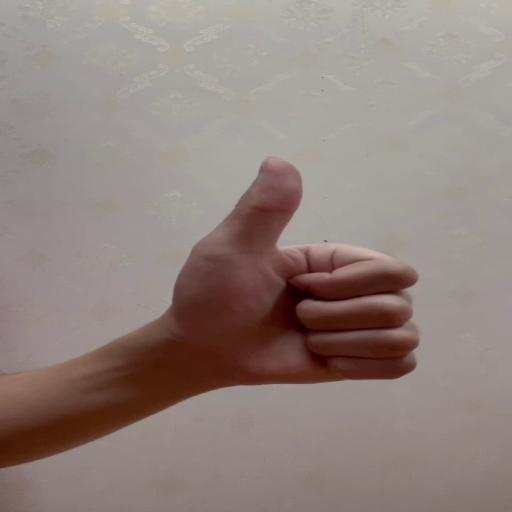thumbs_up: (178, 154, 424, 385)
